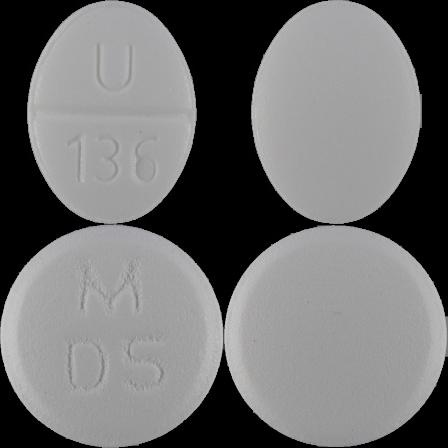61786-396: (0, 0, 224, 224)
